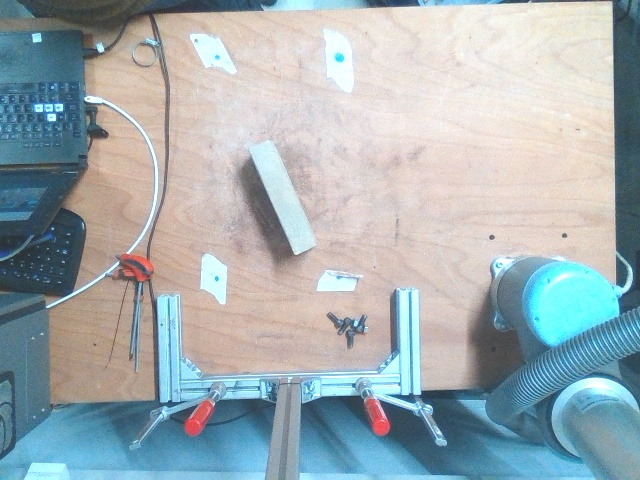brick-side: (250, 141, 316, 251)
